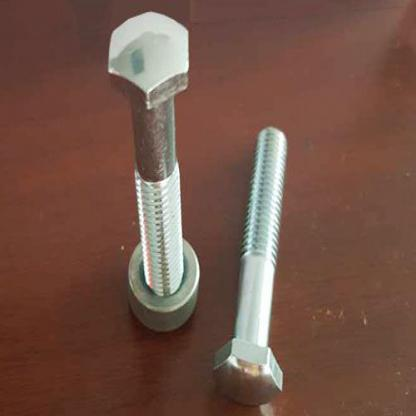FOD: (210, 124, 290, 408)
